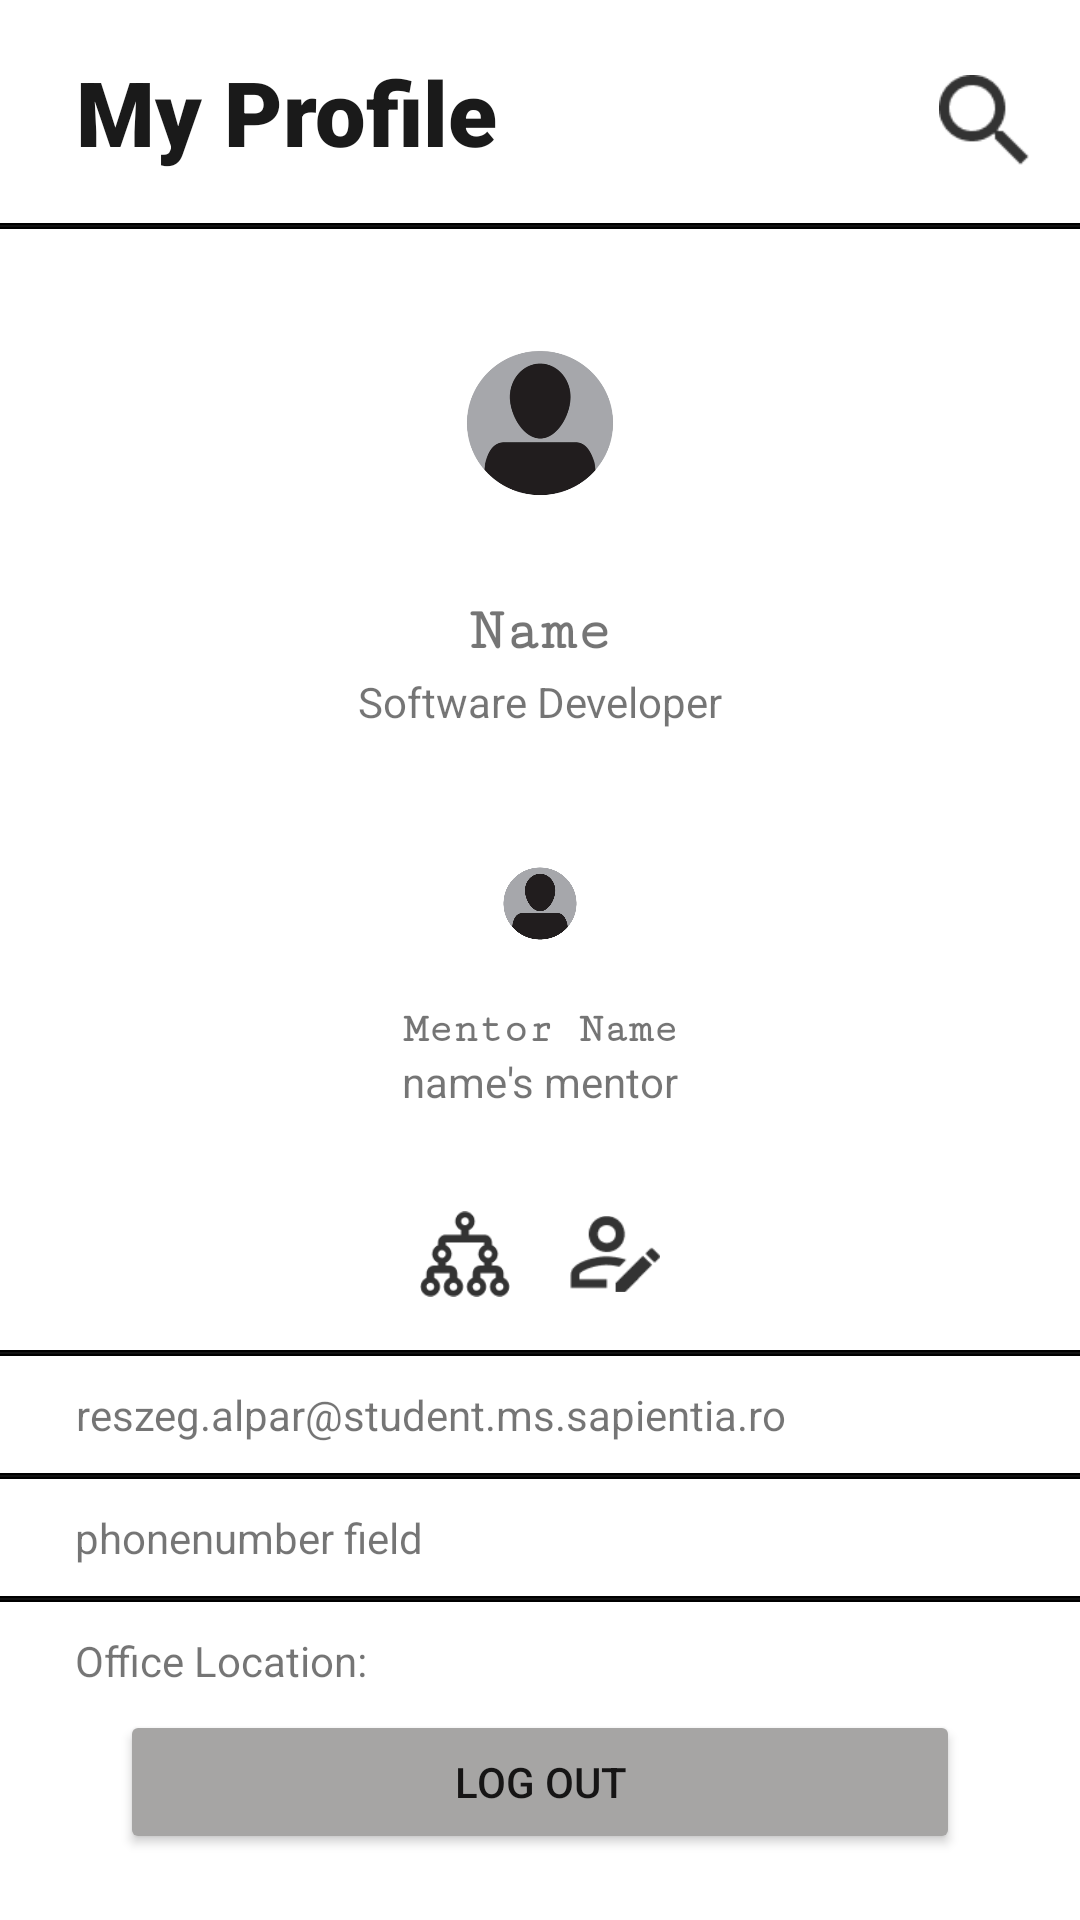

Icon bounding boxes for this 1080px x 1920px phone screenshot, format (left=x1, top=y1, right=x2, bottom=y2):
editprofile: (left=570, top=1216, right=660, bottom=1292)
emptypp: (left=467, top=351, right=613, bottom=495), (left=503, top=867, right=577, bottom=940)
organizationicon: (left=420, top=1211, right=510, bottom=1297)
searchicon: (left=939, top=75, right=1029, bottom=165)
